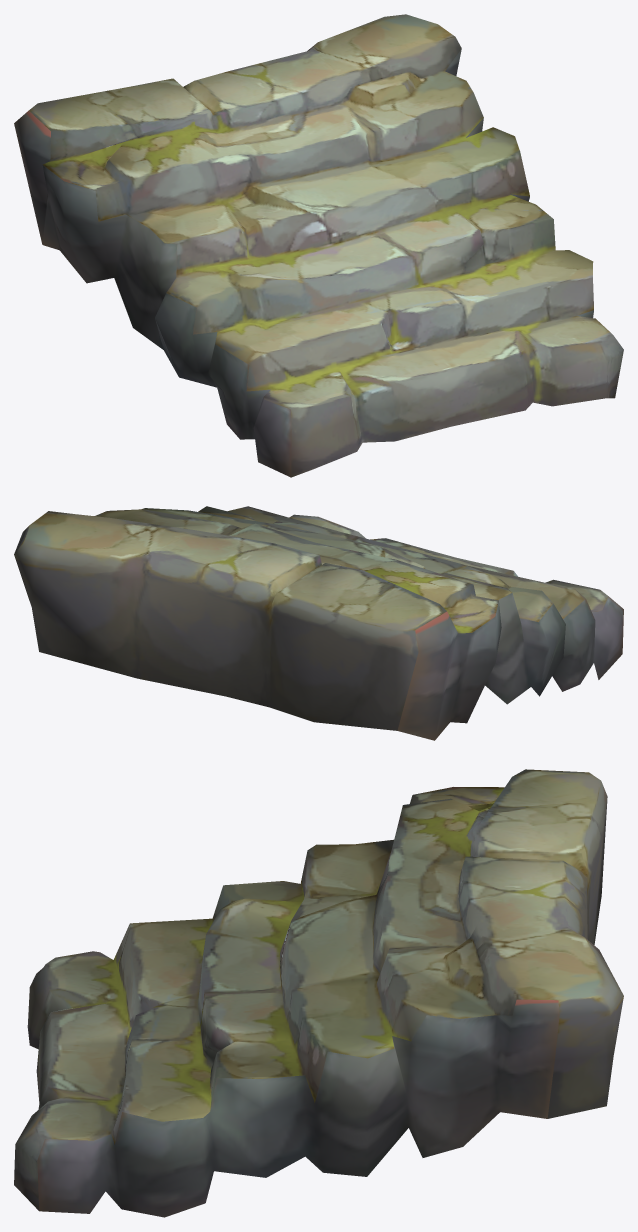
The model's file is Map_08_stone04.FBX.
The picture shows the model from 3 angles, top to bottom: view 1: azimuth 30°, elevation 25°; view 2: azimuth 150°, elevation 25°; view 3: azimuth 270°, elevation 25°; orthographic projection. The views are drawn at different scales.
Parts seen in each view (by area): view 1: Map_08_stone04; view 2: Map_08_stone04; view 3: Map_08_stone04.
Boxes of the visible parts, <box> form: Map_08_stone04: <box>14,14,623,477</box>; Map_08_stone04: <box>14,506,623,740</box>; Map_08_stone04: <box>14,769,623,1217</box>.
Bounding box in the file's own units: 187 × 87.76 × 198.
Materials: 1 (1 with a texture image).
